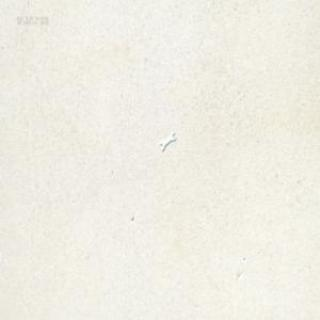Wrenchtrack_idkeyframe: (159, 131, 175, 150)
